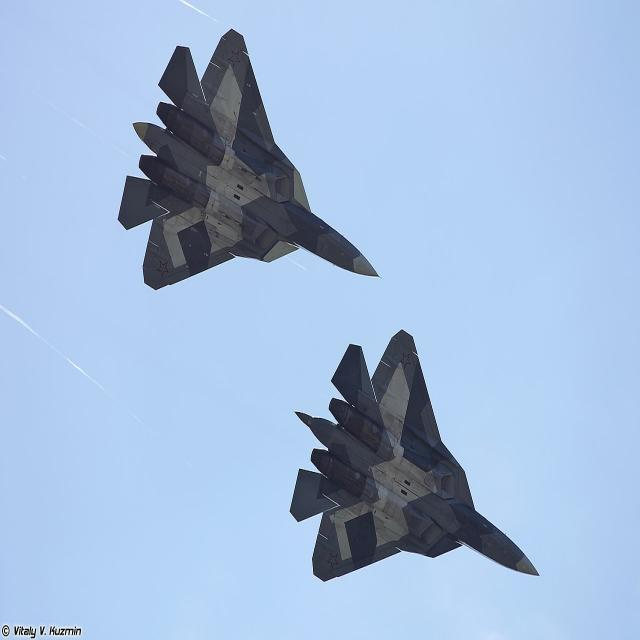MIL_Plane: (118, 28, 382, 290), (290, 330, 540, 582)
